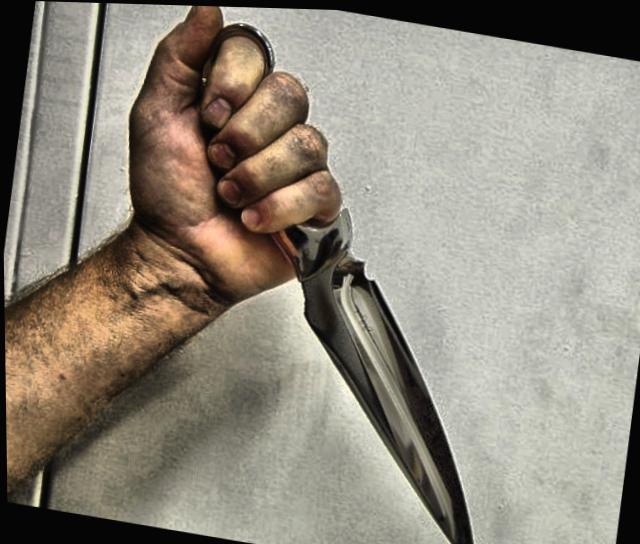knife: (151, 128, 539, 544)
